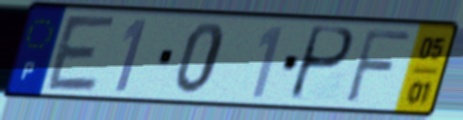0: (171, 20, 226, 97)
1: (113, 17, 150, 95), (250, 24, 286, 100)
E: (43, 12, 121, 95)
F: (341, 26, 415, 106)
P: (285, 23, 358, 104)
